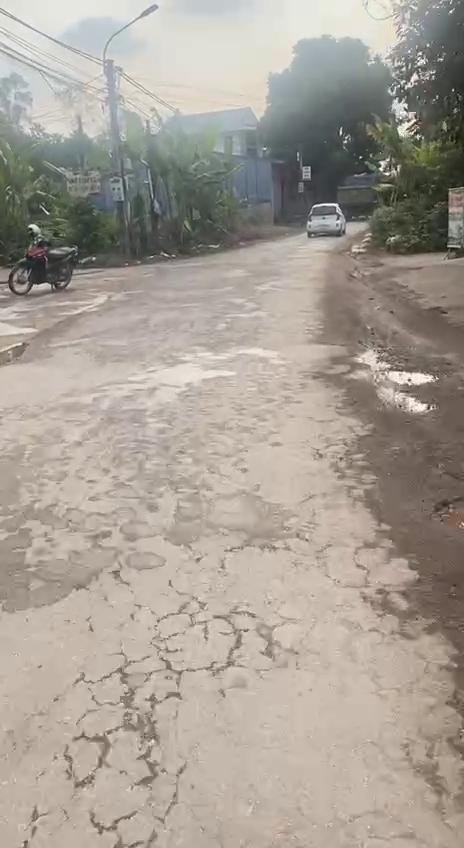pothole: (59, 673, 182, 847), (144, 588, 288, 676), (378, 569, 464, 715), (354, 346, 448, 422), (430, 496, 464, 536), (0, 338, 34, 368)
